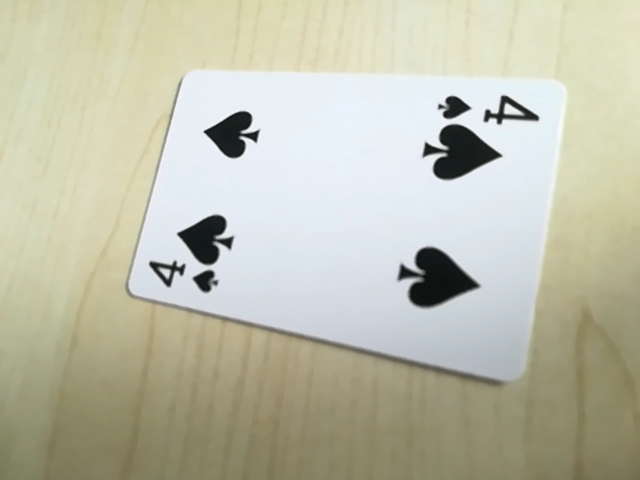ht 4: (430, 87, 543, 126), (141, 254, 230, 299)
